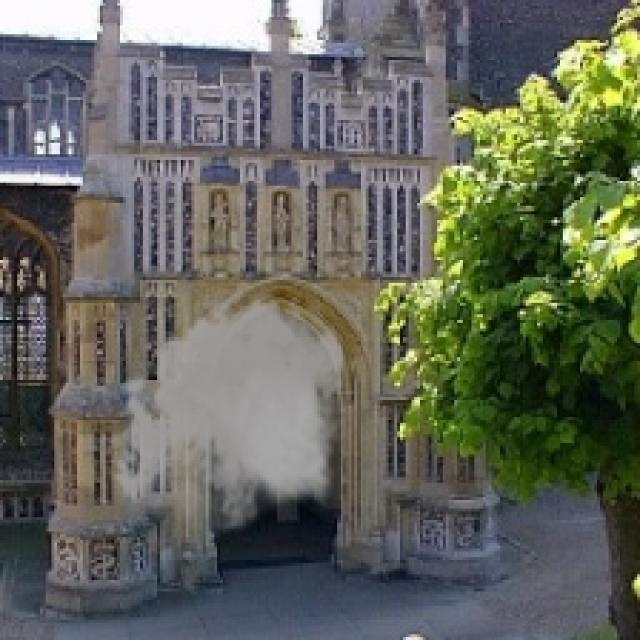Smoke: (108, 283, 354, 546)
